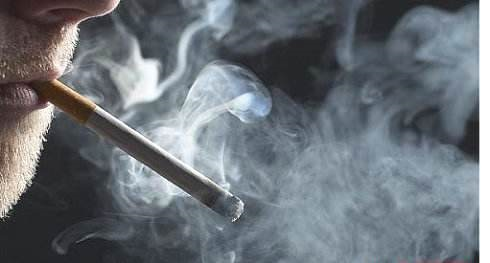yanwu: (251, 113, 475, 258), (117, 1, 271, 150), (105, 101, 197, 215), (393, 6, 476, 107)
